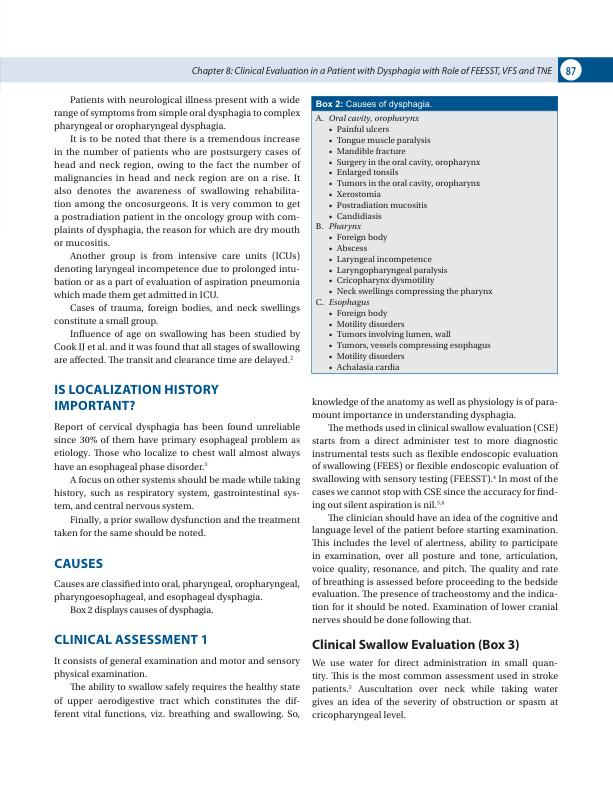caption: (314, 98, 433, 110)
header: (191, 66, 554, 76)
list: (314, 114, 536, 372)
section-heading: (54, 383, 220, 411), (53, 633, 207, 646), (54, 557, 104, 570)
sub-section-heading: (311, 638, 520, 652)
text: (53, 95, 301, 366), (310, 396, 559, 627), (53, 422, 300, 538), (52, 656, 301, 721), (311, 658, 560, 722), (53, 578, 300, 617)
